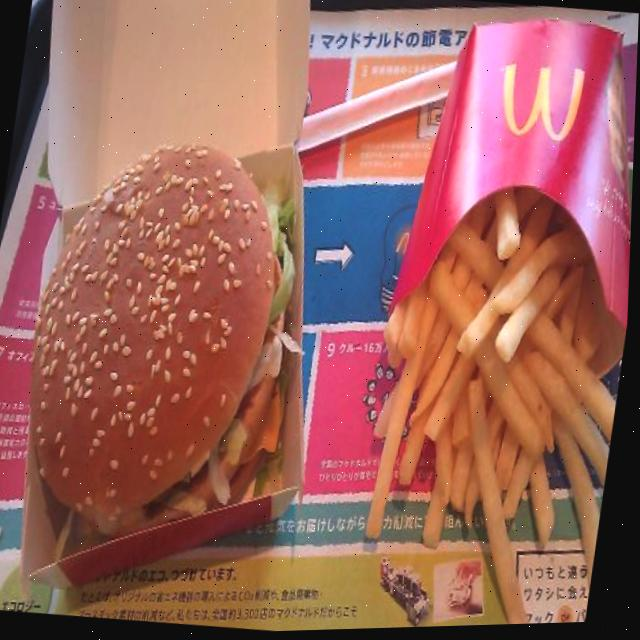汉堡快餐: (0, 103, 360, 563)
炸货点心: (319, 0, 640, 618)
